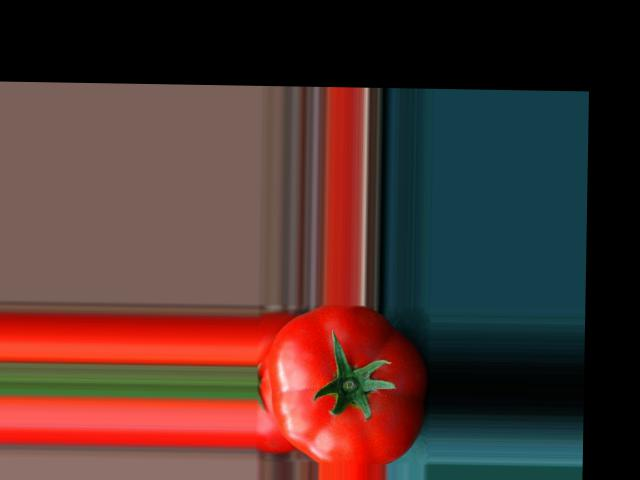tomato: (266, 302, 428, 464)
